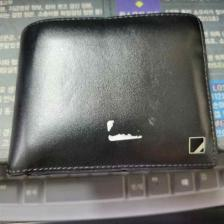wallet: (4, 14, 218, 180)
